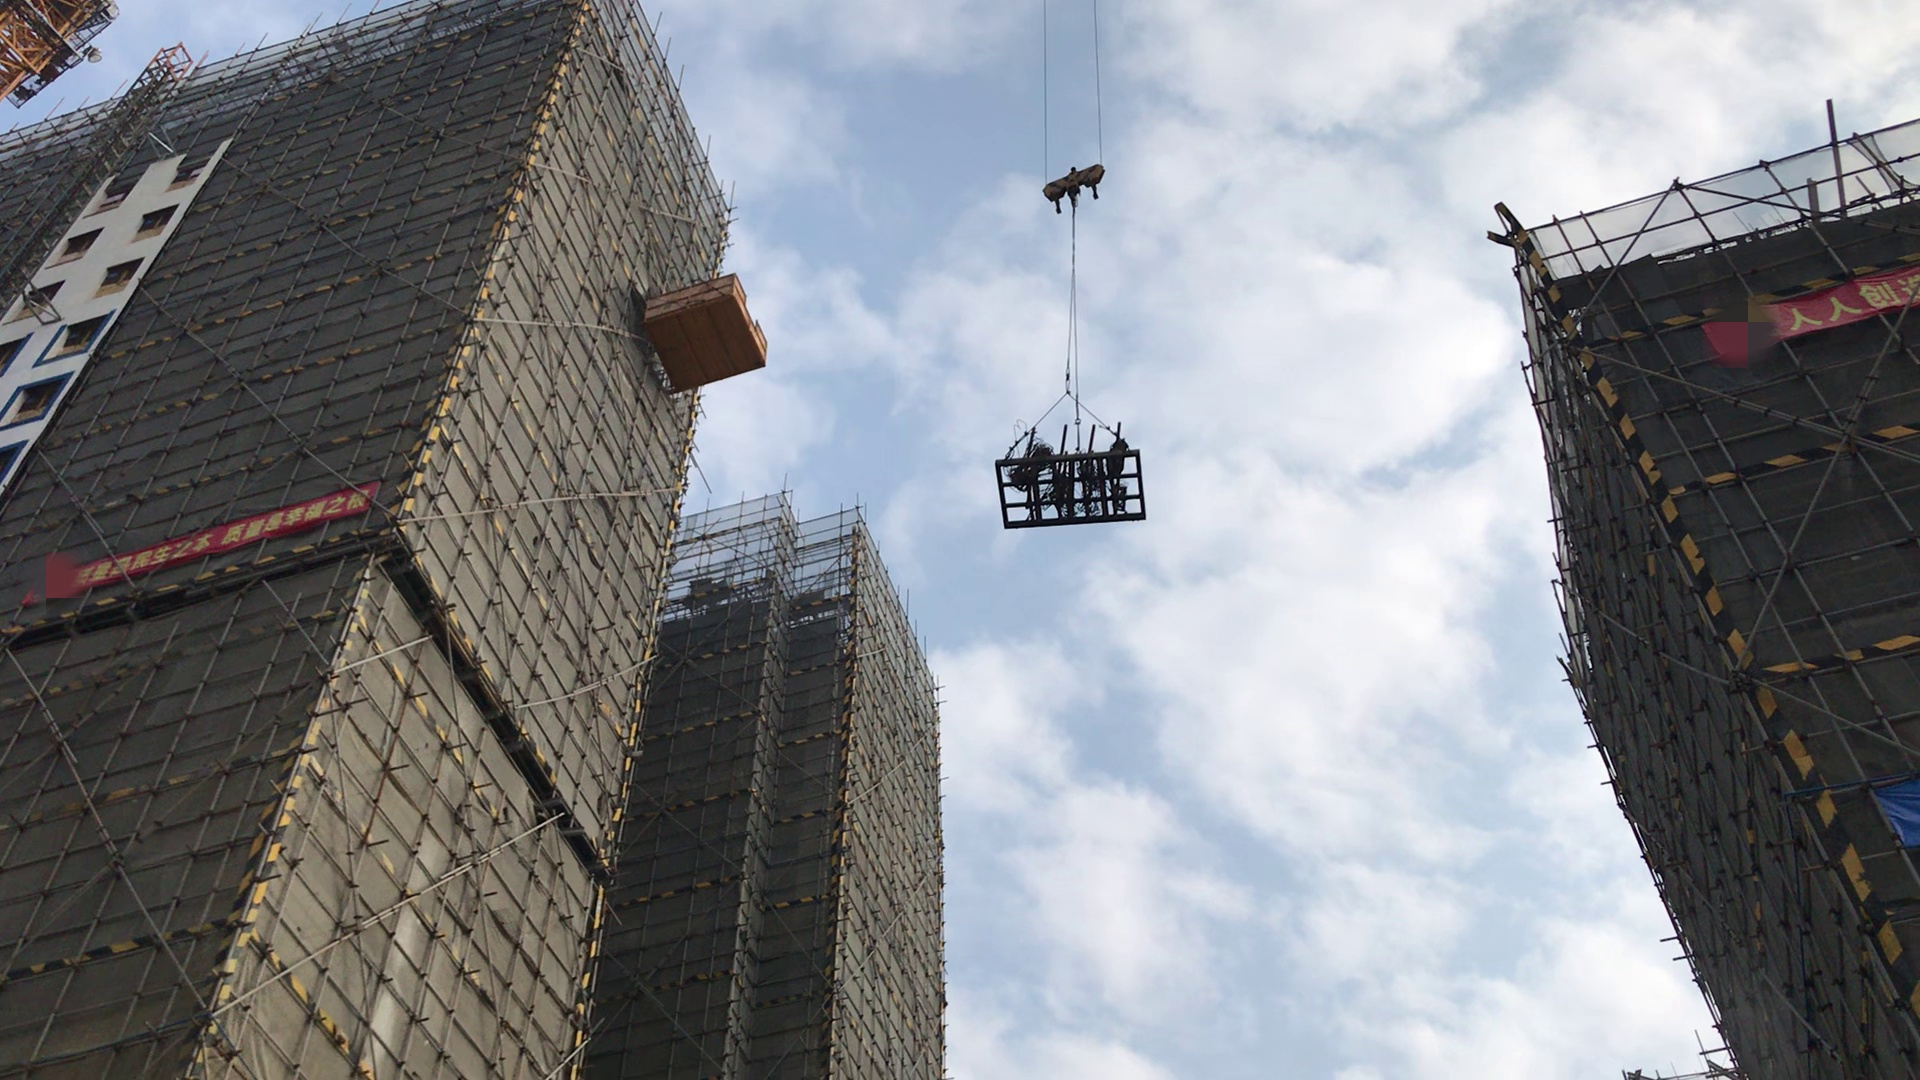hook: (1036, 160, 1116, 204)
slogan: (29, 498, 393, 621), (1710, 266, 1920, 342)
